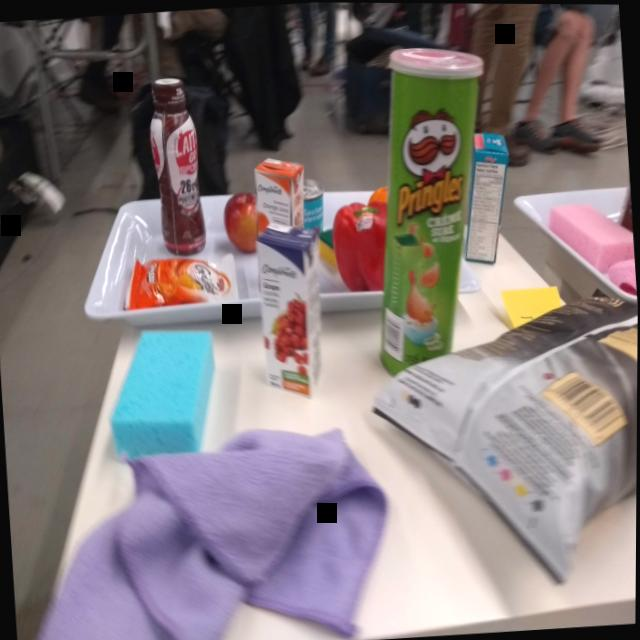apple: (222, 190, 260, 256)
cereal: (453, 126, 519, 270)
chocolate_drink: (142, 70, 214, 259)
crackers: (118, 247, 245, 320)
grape_juice: (252, 220, 330, 404)
pringles: (355, 40, 507, 386)
sponge_opl: (102, 320, 227, 466)
